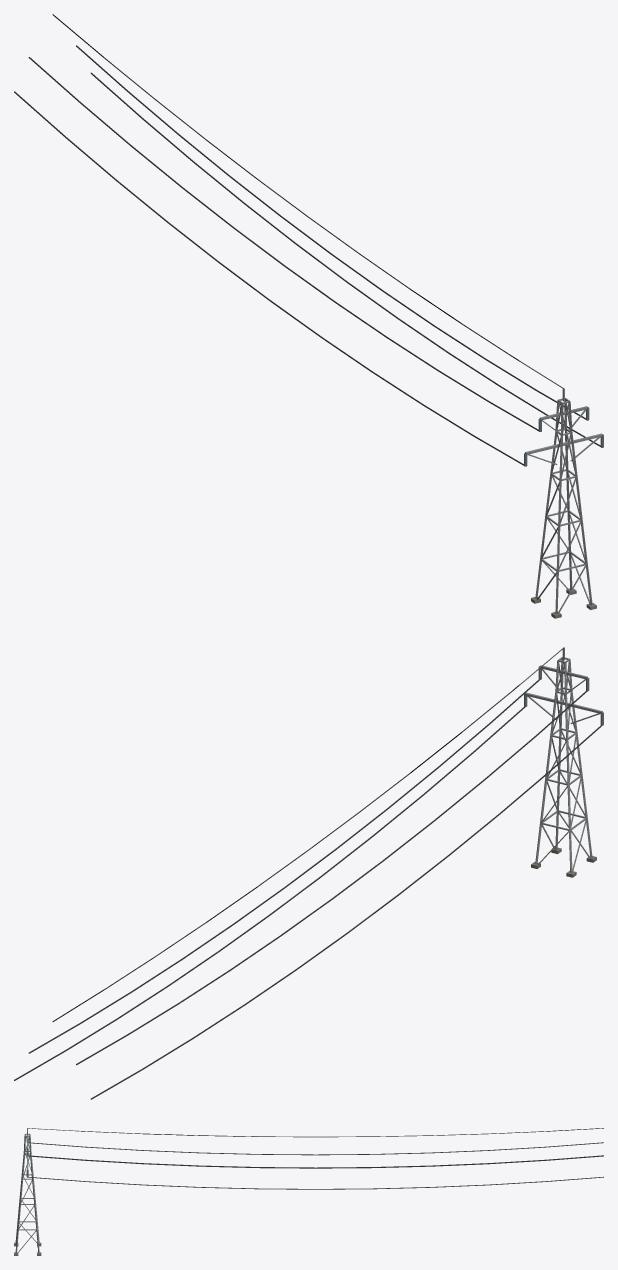
File: power-line-span.fbx
The picture shows the model from 3 angles, top to bottom: view 1: azimuth 30°, elevation 25°; view 2: azimuth 150°, elevation 25°; view 3: azimuth 270°, elevation 25°; orthographic projection. The views are drawn at different scales.
Parts seen in each view (by area): view 1: Wires, power-line-span; view 2: Wires, power-line-span; view 3: Wires, power-line-span.
Part boxes in pixels (box(x1,y1,x2,y2)): Wires: box(14, 14, 600, 465); power-line-span: box(524, 388, 603, 618); Wires: box(14, 647, 601, 1099); power-line-span: box(524, 647, 603, 877); Wires: box(28, 1128, 603, 1189); power-line-span: box(14, 1128, 41, 1255).
Bounding box in the file's own units: 26.87 × 70.21 × 307.
1 material, 1 textured.
